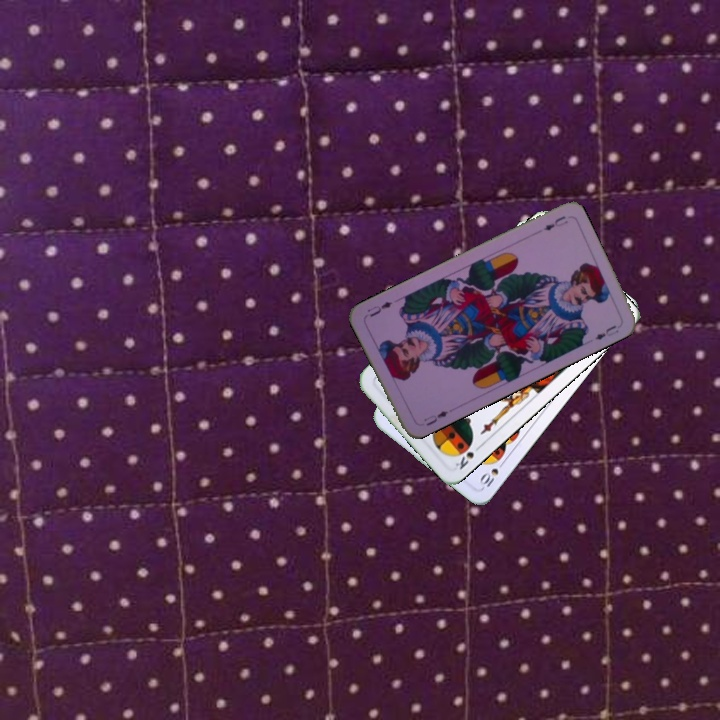EU: (420, 406, 451, 429), (540, 212, 571, 233)
S10: (475, 456, 508, 491)
SK: (451, 440, 485, 472)
